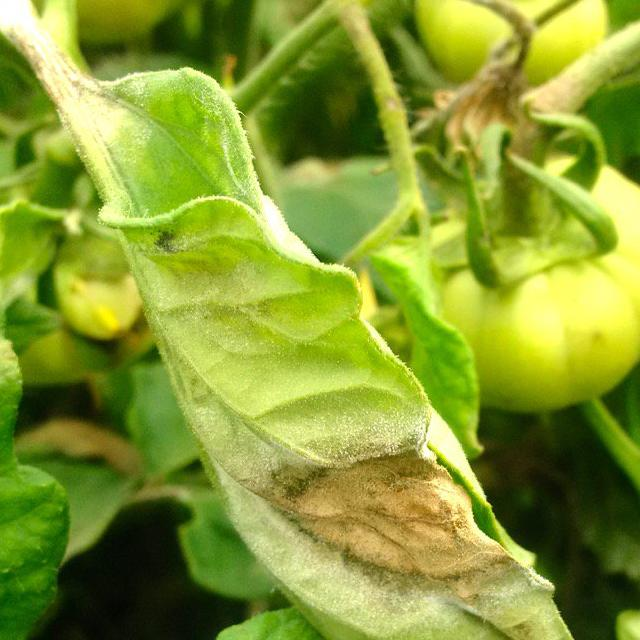Tomato leaf late blight: (22, 7, 640, 640), (166, 606, 488, 640)
